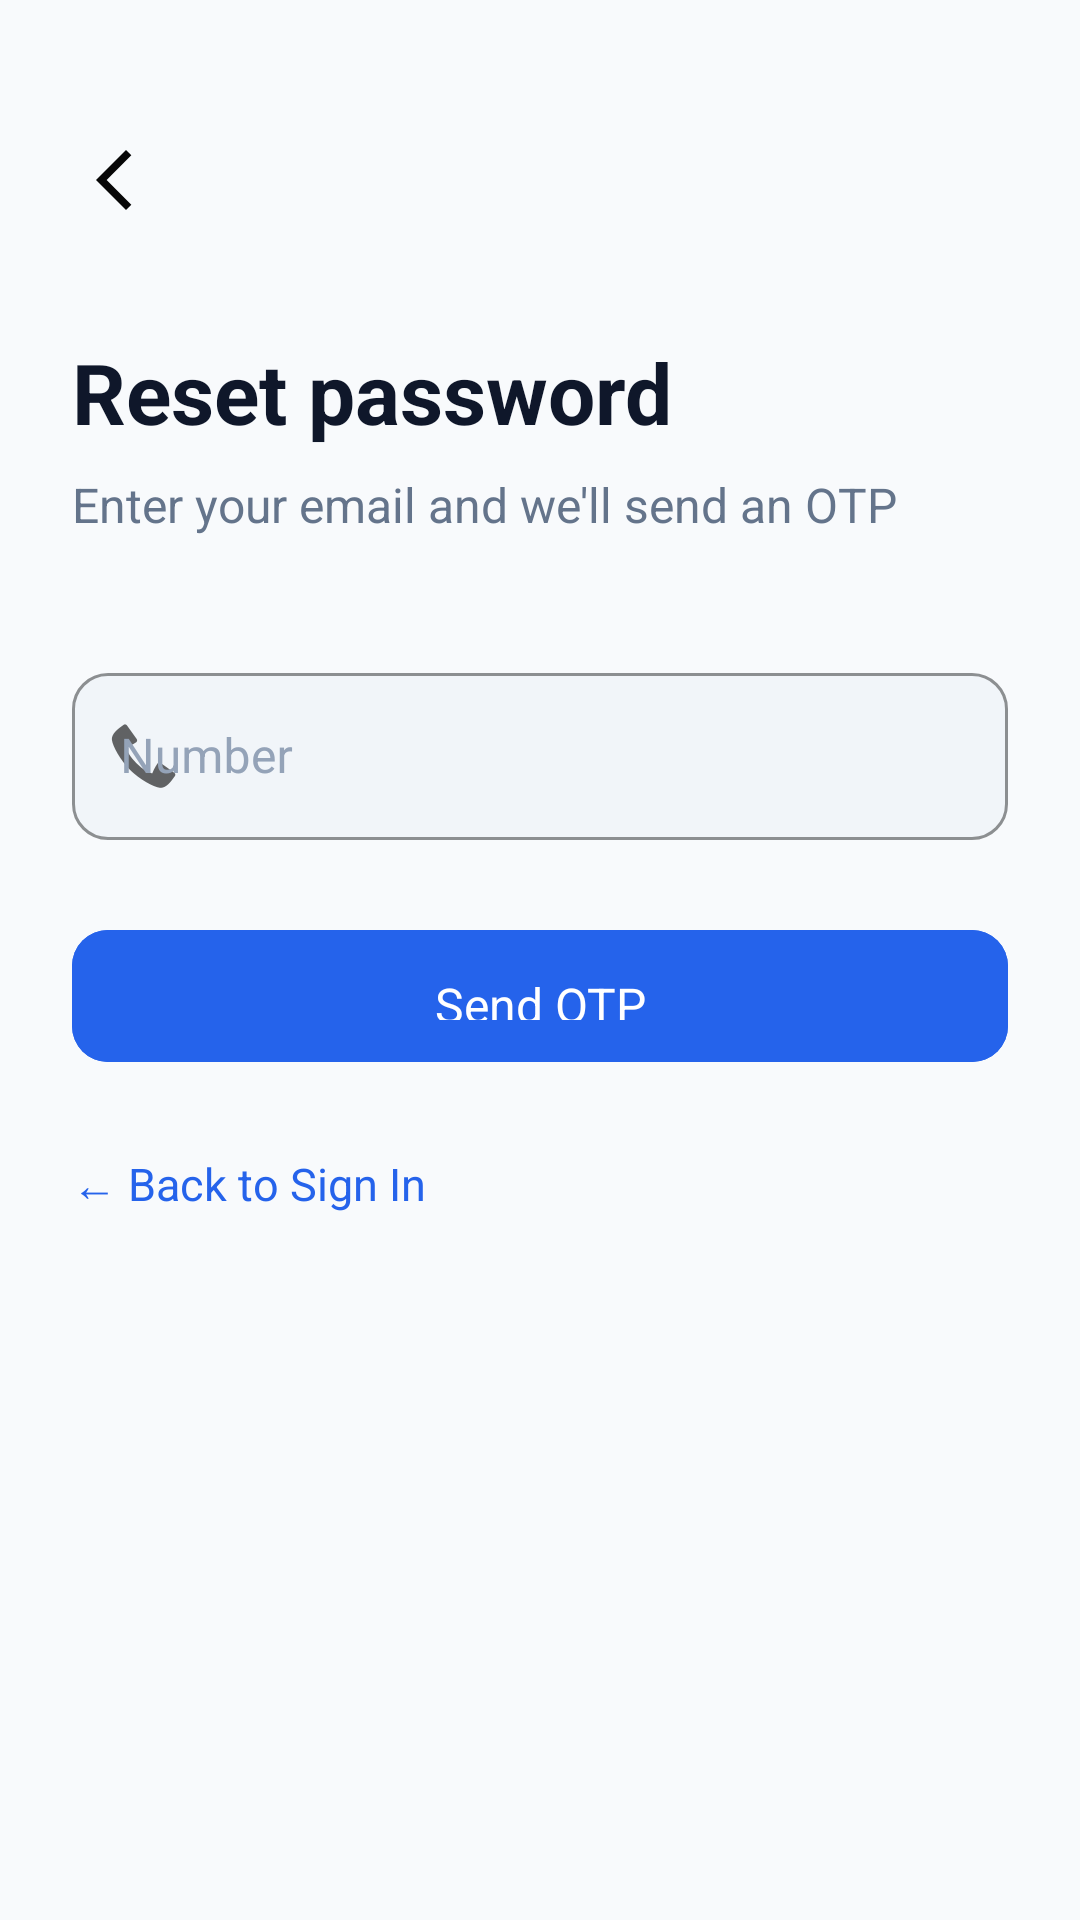

Where icons sit on this 1080w x 1920h app screen, as (x1, y1, x2, y2):
Back: (96, 150, 131, 210)
